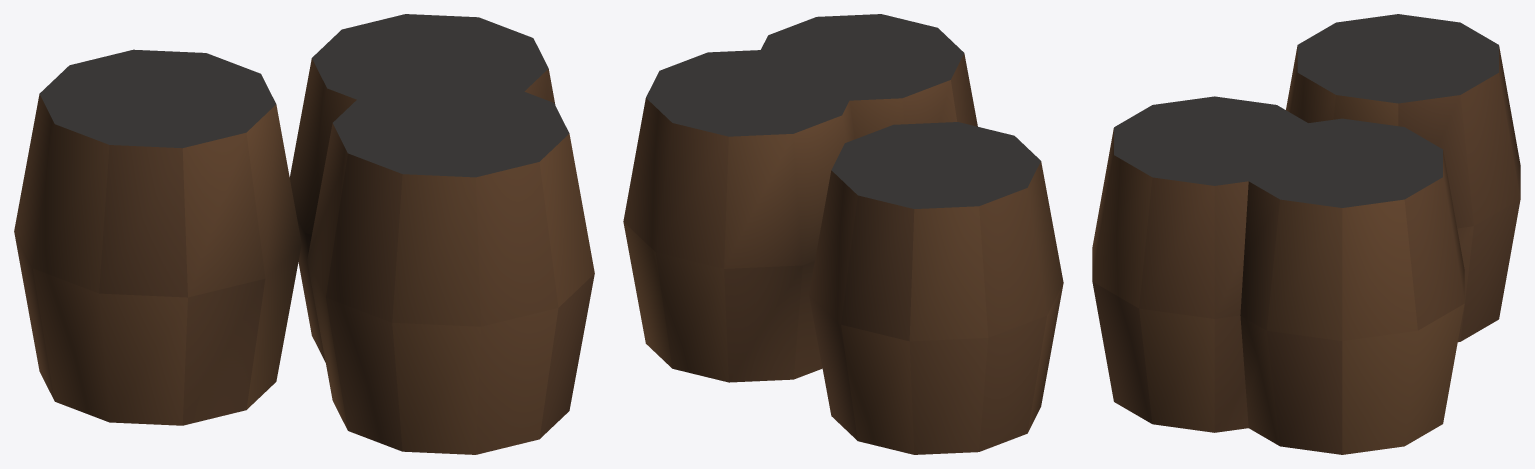
File: Barrels.glb
3 renders of one model, left to right at view 1: azimuth 30°, elevation 25°; view 2: azimuth 150°, elevation 25°; view 3: azimuth 270°, elevation 25°, orthographic. The views are drawn at different scales.
Visible parts, largest first — view 1: Barrels; view 2: Barrels; view 3: Barrels.
Boxes of the visible parts, x1,y1,x2,y2 form: Barrels: (14, 14, 594, 454); Barrels: (623, 14, 1063, 454); Barrels: (1092, 14, 1520, 454).
Size of the model in its own units: 3.33 by 1.8 by 2.83.
